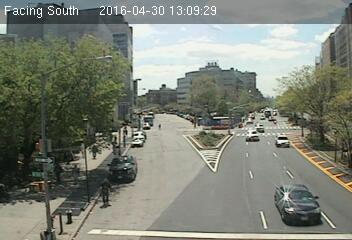neg: (19, 147, 36, 170), (330, 146, 347, 169), (145, 118, 161, 140), (89, 54, 105, 75), (62, 91, 77, 112), (29, 194, 44, 214), (193, 151, 208, 171), (311, 120, 326, 139), (332, 13, 347, 32), (273, 44, 286, 61), (224, 30, 237, 47), (135, 85, 147, 101), (150, 23, 162, 39), (197, 114, 209, 129), (225, 12, 236, 27), (44, 12, 55, 27), (241, 72, 252, 86), (269, 14, 279, 28), (198, 78, 208, 91), (64, 210, 74, 223), (243, 100, 252, 112), (193, 32, 202, 44)
pos: (91, 173, 118, 208), (69, 163, 87, 186), (49, 161, 65, 182), (90, 144, 103, 161)
